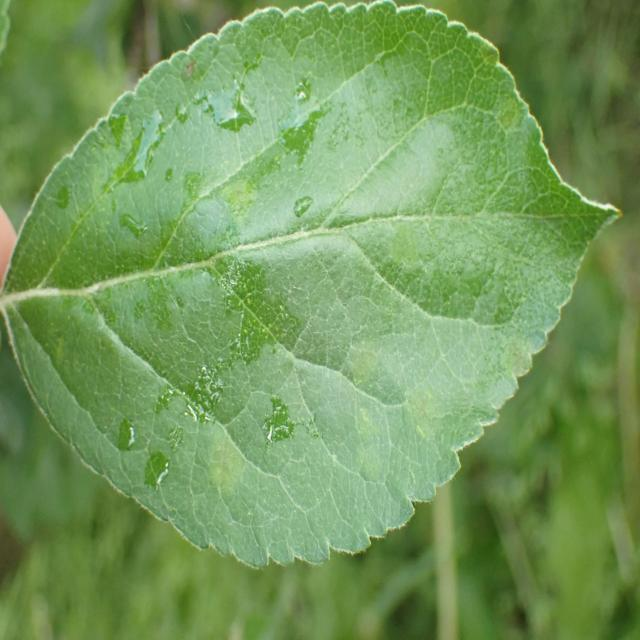scab: (88, 98, 552, 496)
